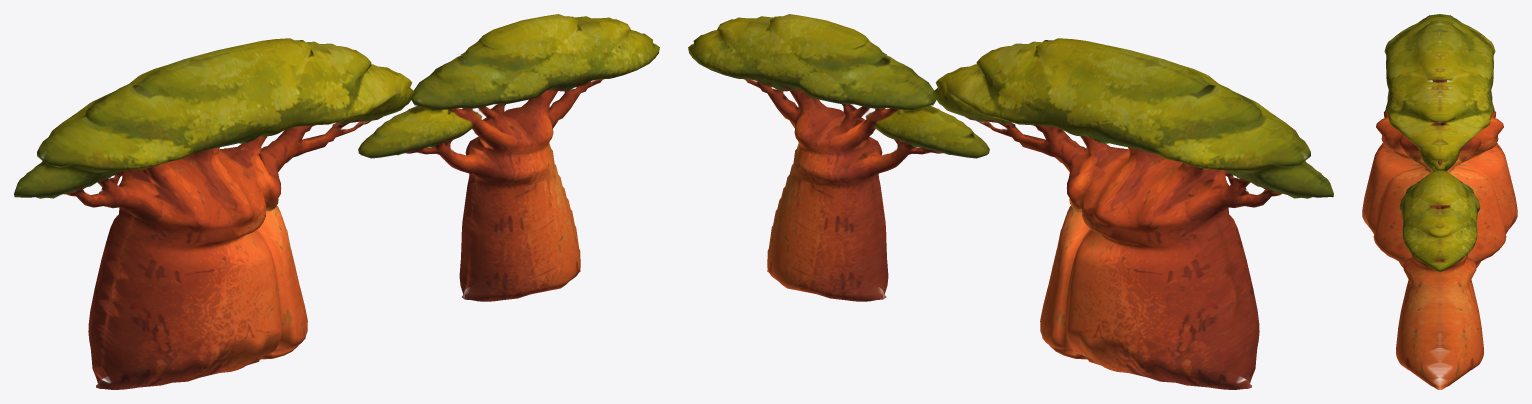
File: 03_baobab_trees_r00_c00.glb
3 renders of one model, left to right at view 1: azimuth 30°, elevation 25°; view 2: azimuth 150°, elevation 25°; view 3: azimuth 270°, elevation 25°, orthographic. The views are drawn at different scales.
Visible parts, largest first — view 1: 03_baobab_trees_r00_c00; view 2: 03_baobab_trees_r00_c00; view 3: 03_baobab_trees_r00_c00.
Part boxes in pixels (<box>): 03_baobab_trees_r00_c00: <box>14,14,659,389</box>; 03_baobab_trees_r00_c00: <box>688,14,1333,389</box>; 03_baobab_trees_r00_c00: <box>1362,14,1517,389</box>.
Size of the model in its own units: 9.97 by 4.47 by 2.83.
1 material, 1 textured.
